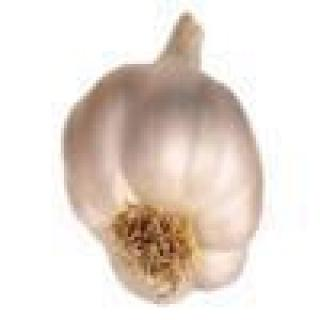Bawang Putih: (62, 8, 270, 299)
